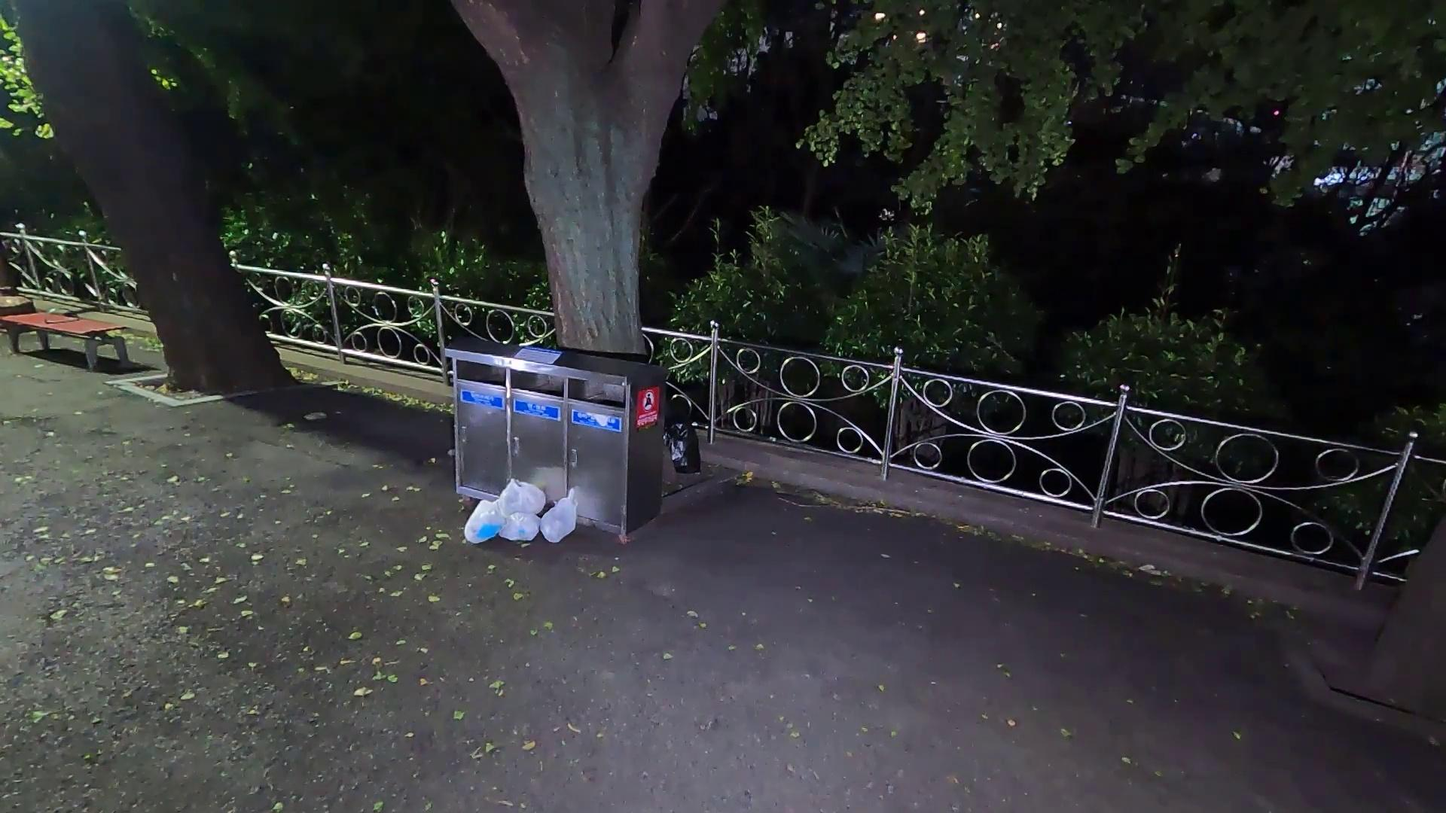trash: (667, 395, 704, 477), (467, 495, 506, 546), (540, 489, 575, 542), (495, 480, 546, 516), (503, 508, 542, 547)
